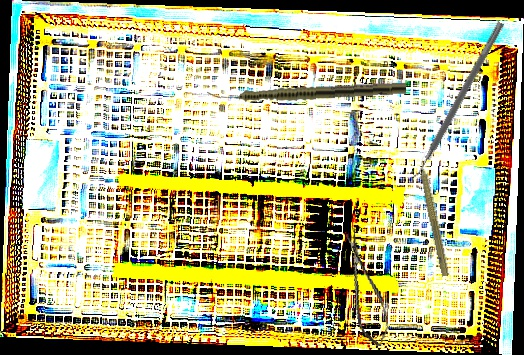Handpiece: (206, 79, 407, 106), (414, 150, 454, 278)
Micro Scissor: (339, 229, 393, 350)
Spatula Surgical: (406, 17, 505, 183)
